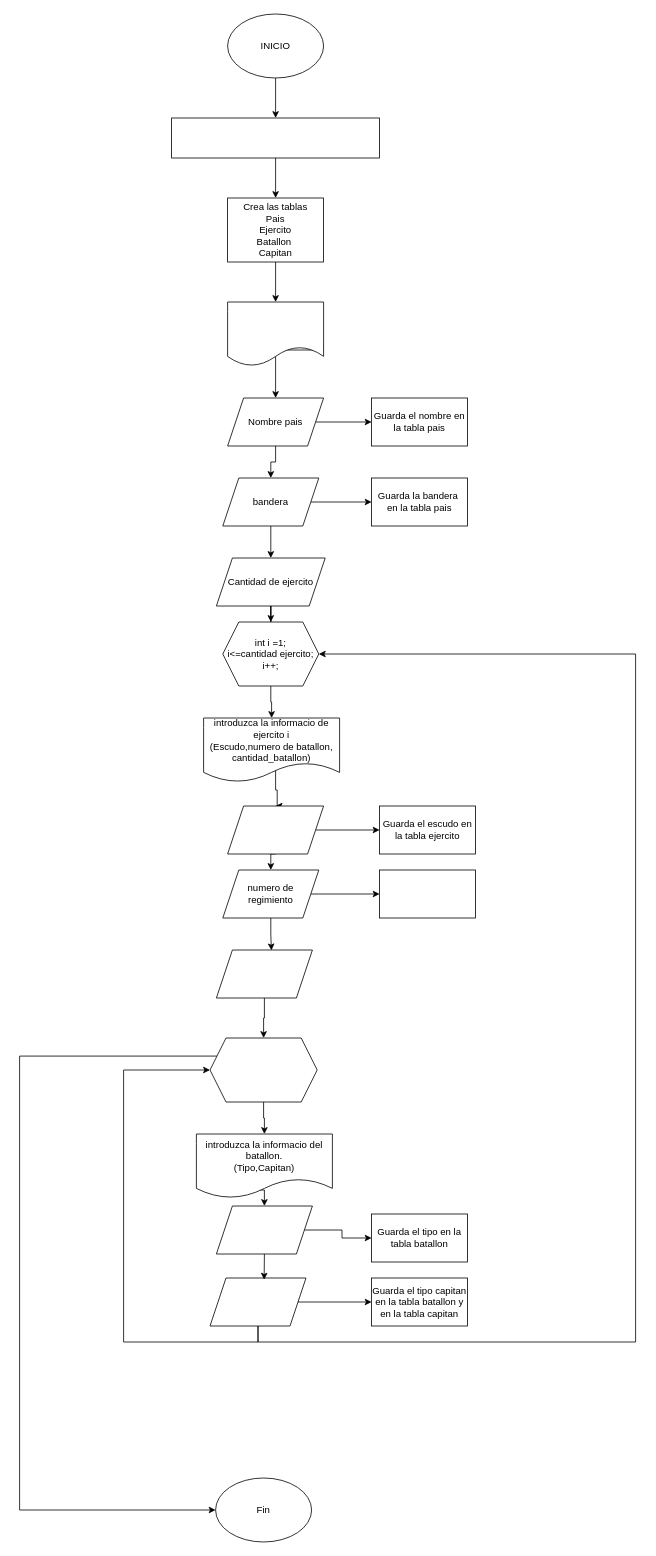
Some shapes in this 656 by 1556 pixel diagram are drawn without their labels. The shapes that lost their labels are listed below. From the top down, each one's box as (x1, y1, x2, y2) in pixels, then its label:
(171, 117, 380, 158): CREATE DATABASE Guerrasmedievales
(227, 301, 324, 366): Introduce la informacion de tu pais (nombre,bandera, cantidad de ejercitos)
(227, 805, 324, 854): Escudo
(379, 869, 476, 918): Guarda el numero en la tabla ejercito y en la tabla Pais
(216, 949, 312, 998): cantidad batallon
(209, 1037, 317, 1102): int x =1; x<=cantidad_batallon; x++;
(216, 1205, 312, 1254): tipo de batallon
(209, 1277, 306, 1326): tipo de capitan
